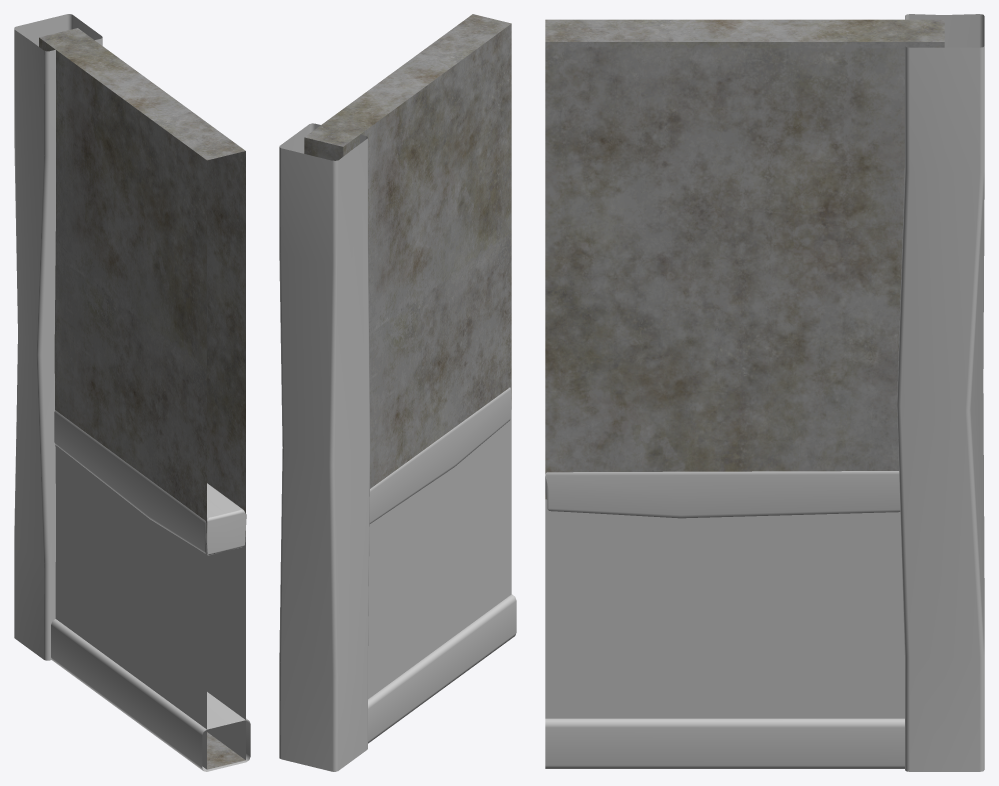
Rendered from SM_WallMedium16.fbx.
The picture shows the model from 3 angles, left to right: view 1: azimuth 30°, elevation 25°; view 2: azimuth 150°, elevation 25°; view 3: azimuth 270°, elevation 25°; orthographic projection. The views are drawn at different scales.
Parts seen in each view (by area): view 1: SM_WallMedium16_LOD0; view 2: SM_WallMedium16_LOD0; view 3: SM_WallMedium16_LOD0.
Part boxes in pixels (box(x1,y1,x2,y2)): SM_WallMedium16_LOD0: box(14, 14, 250, 771); SM_WallMedium16_LOD0: box(279, 14, 516, 771); SM_WallMedium16_LOD0: box(545, 14, 984, 771).
Bounding box in the file's own units: 33.65 × 165 × 301.
